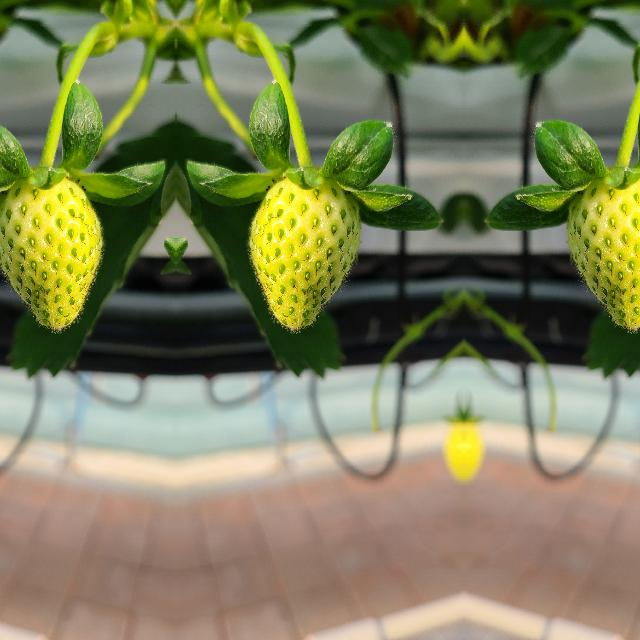Health_25: (248, 179, 358, 327), (0, 179, 102, 327), (567, 179, 640, 327)
